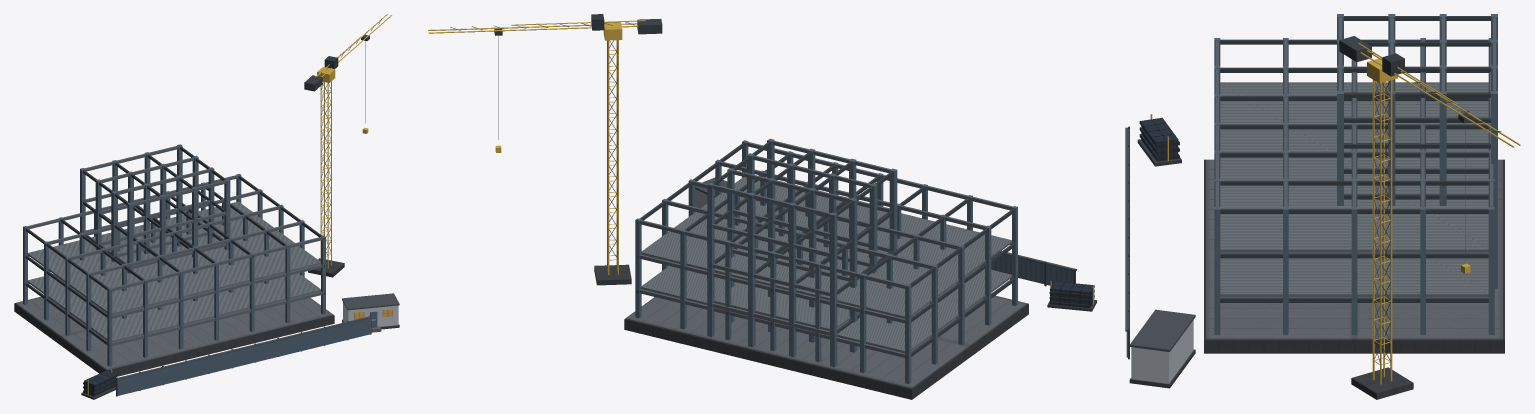
The model's file is trg-3-construction.glb.
The picture shows the model from 3 angles, left to right: view 1: azimuth 30°, elevation 25°; view 2: azimuth 150°, elevation 25°; view 3: azimuth 270°, elevation 25°; orthographic projection. The views are drawn at different scales.
Bounding box in the file's own units: 56.02 × 26.75 × 28.24.
20 materials, 12 textured.
